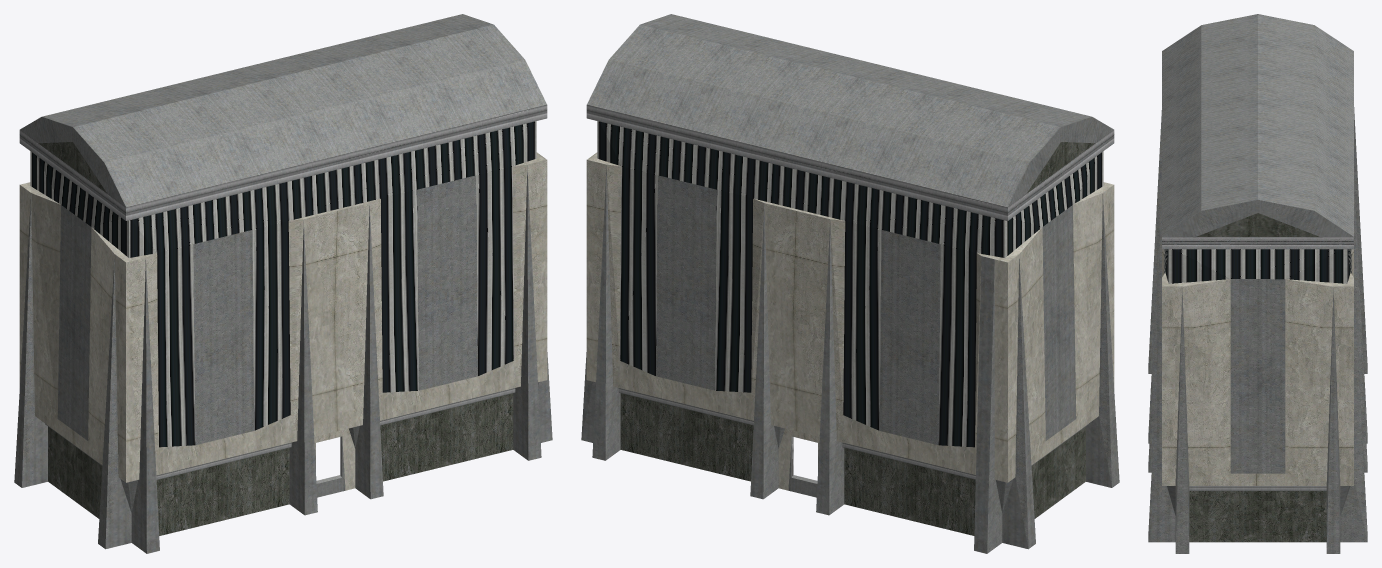
File: thm_corl_imprv_building_block_32x16_s01_r0_mesh_l2.fbx
3 renders of one model, left to right at view 1: azimuth 30°, elevation 25°; view 2: azimuth 150°, elevation 25°; view 3: azimuth 270°, elevation 25°, orthographic. The views are drawn at different scales.
Visible parts, largest first — view 1: mesh_node; view 2: mesh_node; view 3: mesh_node.
Part boxes in pixels (left/top/right/bottom): mesh_node: left=14, top=14, right=552, bottom=553; mesh_node: left=581, top=14, right=1119, bottom=553; mesh_node: left=1148, top=14, right=1367, bottom=553.
Bounding box in the file's own units: 33.98 × 27.99 × 15.98.
